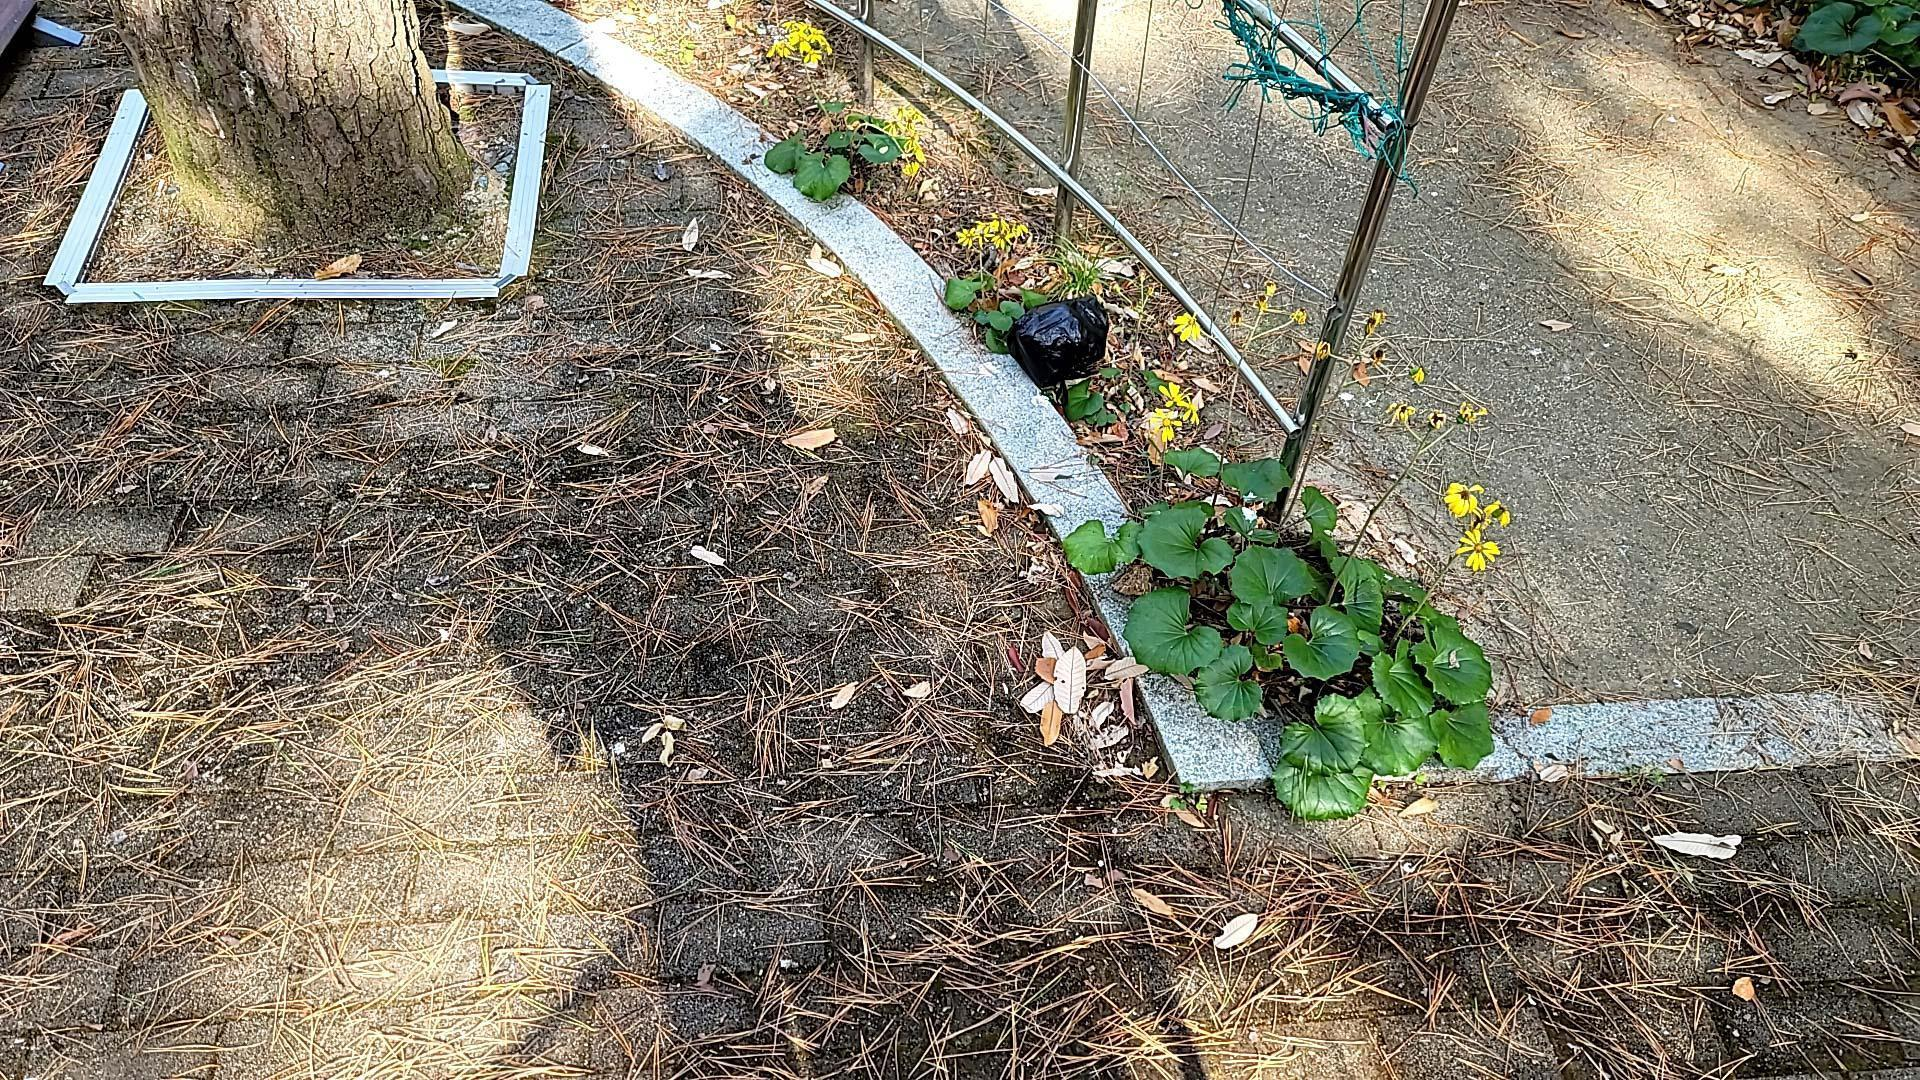black_bag: (1006, 293, 1114, 389)
